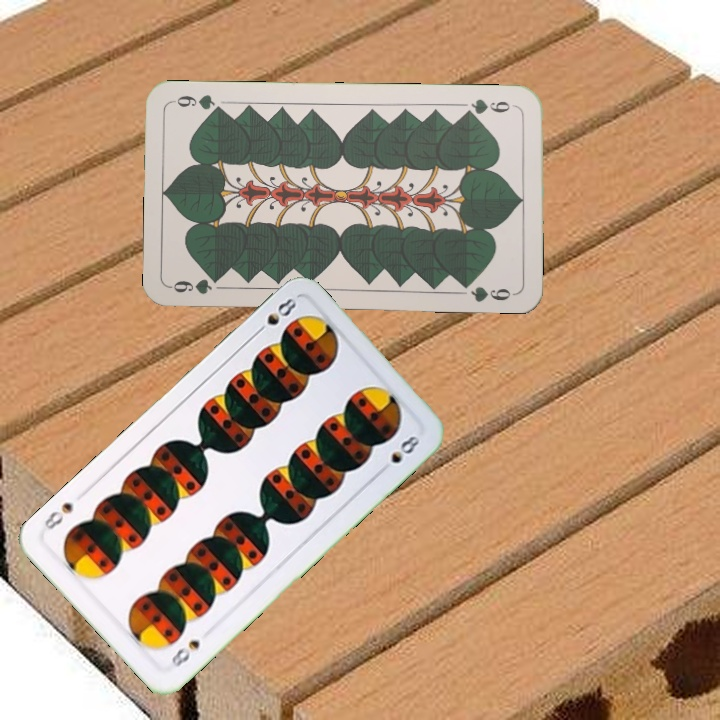G9: (167, 274, 223, 297), (460, 95, 513, 118)
S8: (250, 293, 300, 339), (167, 635, 203, 671)
